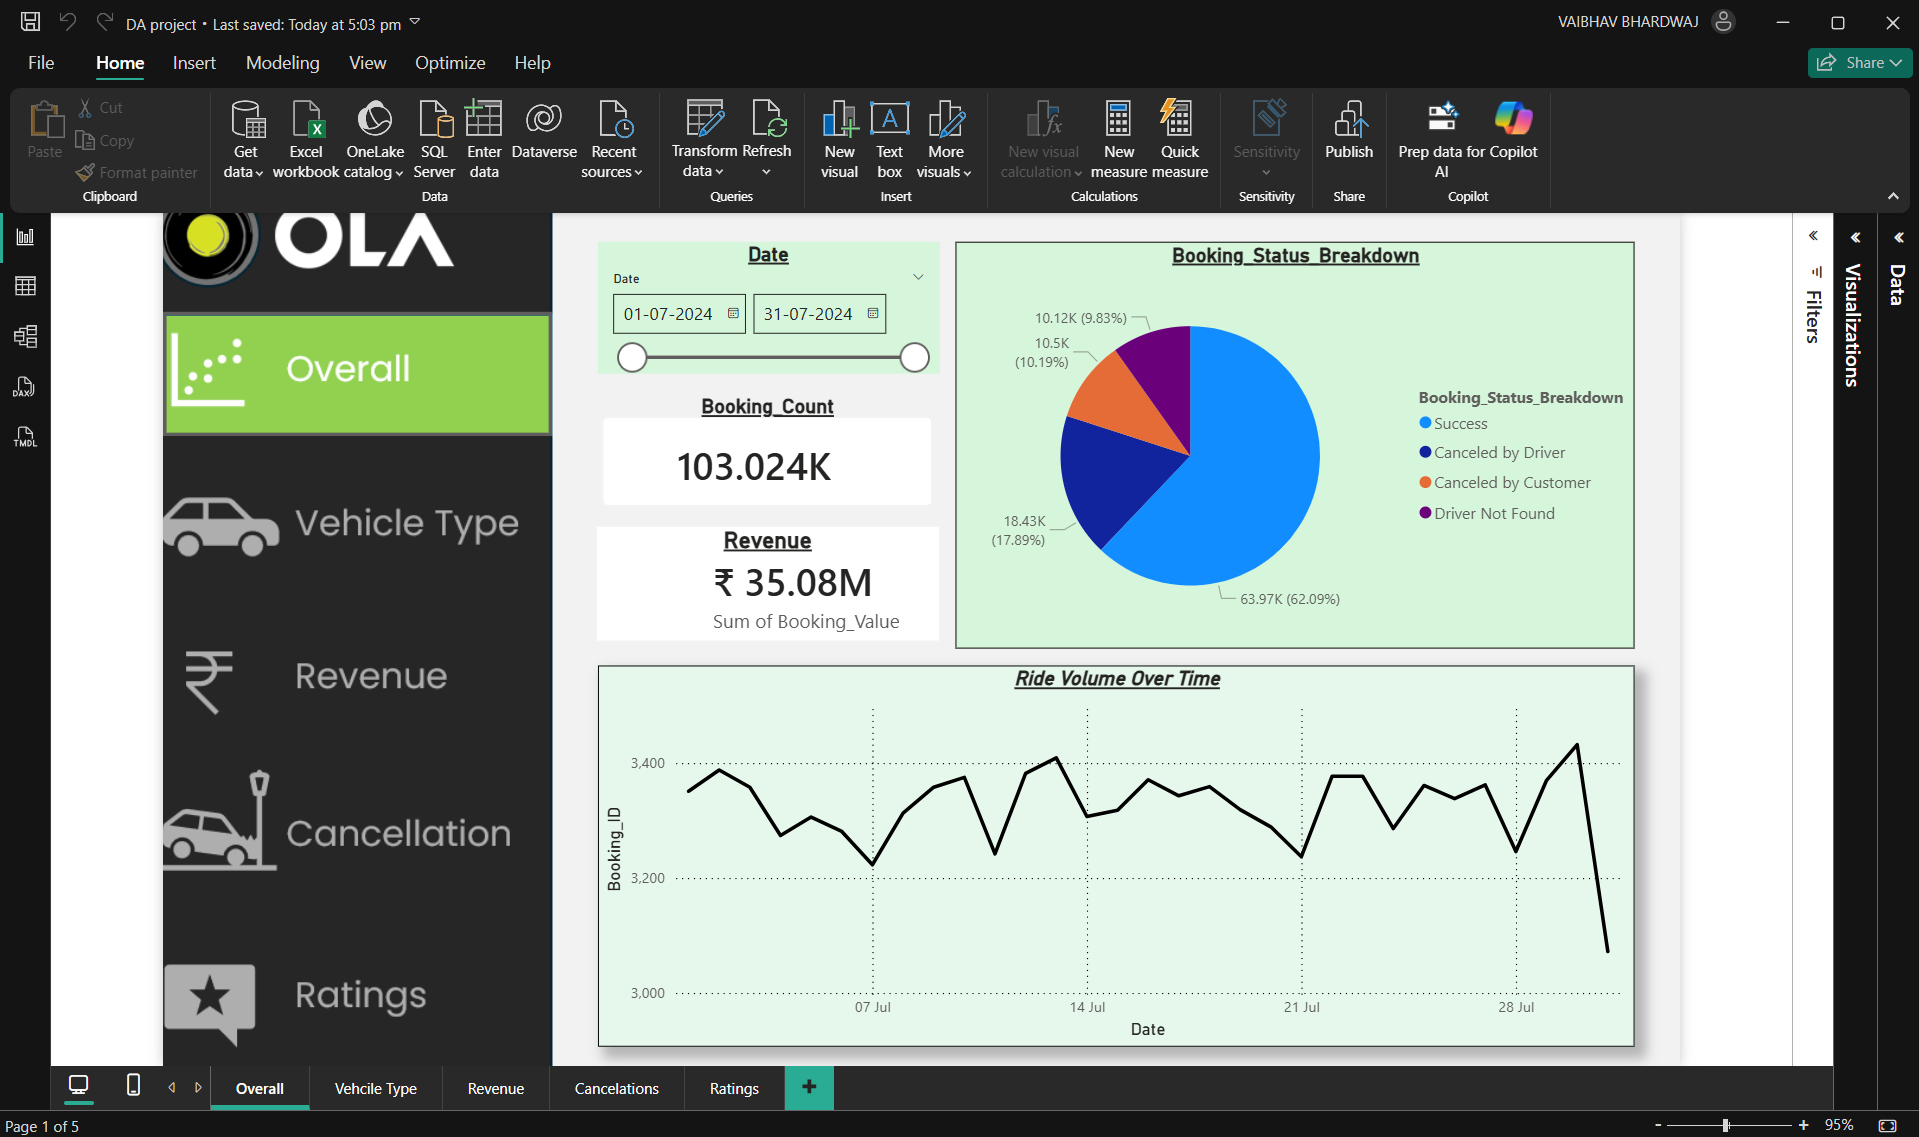

This screenshot's page, from the dashboard's own definition file:
{"tool":"powerbi","page":{"name":"Overall","canvas":[1280,720],"ordinal":0},"visuals":[{"type":"actionButton","box":[0,188.3,328.3,128.3],"z":0},{"type":"actionButton","box":[0,340,328.3,118.3],"z":1000},{"type":"actionButton","box":[0,458.3,328.3,140],"z":2000},{"type":"actionButton","box":[0,598.3,328.3,121.7],"z":3000},{"type":"actionButton","box":[0,83.3,328.3,105],"z":4000},{"type":"lineChart","title":"Ride Volume Over Time","fields":{"Category":["July.Date"],"Y":["CountNonNull(July.Booking_ID)"]},"box":[367.1,381.4,874.3,321.4],"z":5000},{"type":"pieChart","title":"Booking_Status_Breakdown","fields":{"Category":["July.Booking_Status"],"Y":["CountNonNull(July.Booking_Status)"]},"box":[668.6,24.3,572.9,342.9],"z":6000},{"type":"slicer","title":"Date","fields":{"Values":["July.Date"]},"box":[366.7,24.4,287.8,111.1],"z":7000},{"type":"cardVisual","title":"Booking_Count","fields":{"Data":["CountNonNull(July.Booking_ID)"]},"box":[365.7,152.9,288.6,100],"z":8000},{"type":"cardVisual","title":"Revenue","fields":{"Data":["Sum(July.Booking_Value)"]},"box":[365.7,264.3,288.6,95.7],"z":9000}]}

Visuals, with their boxes on the page's 1280x720 design canvas (x1, y1, x2, y2). These are canvas units, not pixel positions in the 1919x1137 screenshot, which may show the page scaled, cropped or inside an application window:
actionButton: Rect(0, 188, 328, 317)
actionButton: Rect(0, 340, 328, 458)
actionButton: Rect(0, 458, 328, 598)
actionButton: Rect(0, 598, 328, 720)
actionButton: Rect(0, 83, 328, 188)
"Ride Volume Over Time" lineChart: Rect(367, 381, 1241, 703)
"Booking_Status_Breakdown" pieChart: Rect(669, 24, 1242, 367)
"Date" slicer: Rect(367, 24, 654, 136)
"Booking_Count" cardVisual: Rect(366, 153, 654, 253)
"Revenue" cardVisual: Rect(366, 264, 654, 360)
